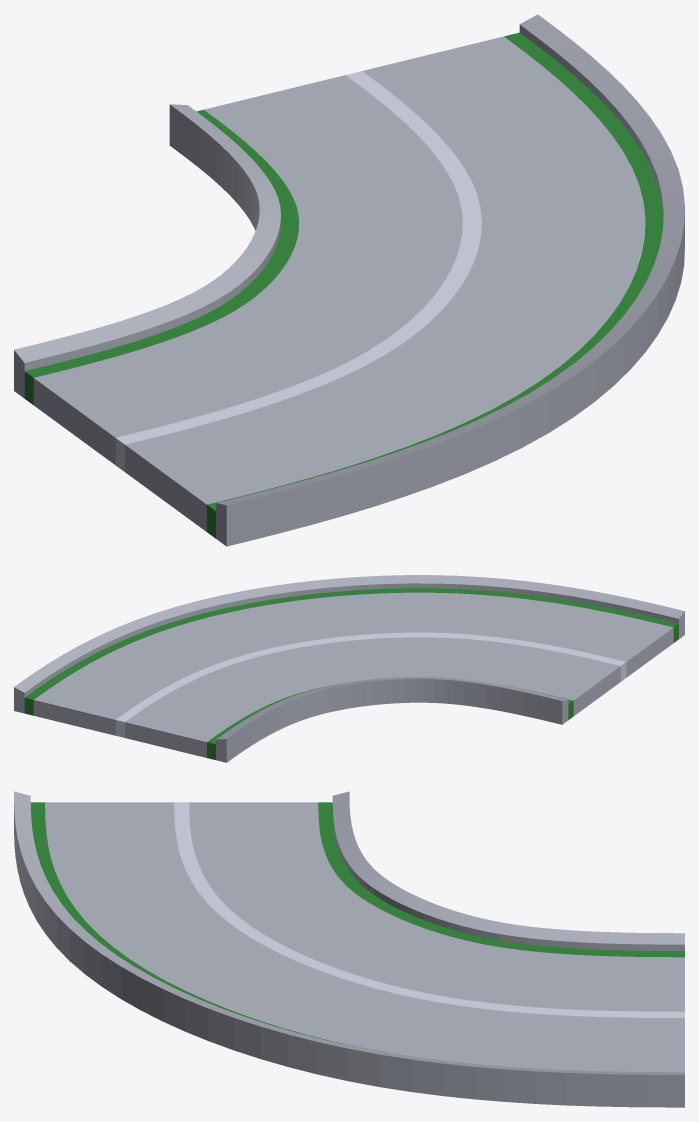
File: soft_turn.glb
The picture shows the model from 3 angles, top to bottom: view 1: azimuth 30°, elevation 25°; view 2: azimuth 150°, elevation 25°; view 3: azimuth 270°, elevation 25°; orthographic projection. The views are drawn at different scales.
Visible parts, largest first — view 1: soft_turn; view 2: soft_turn; view 3: soft_turn.
Boxes of the visible parts, <box> form: soft_turn: <box>14,14,684,546</box>; soft_turn: <box>14,575,684,762</box>; soft_turn: <box>14,791,684,1107</box>.
Bounding box in the file's own units: 28 × 1.5 × 28.
